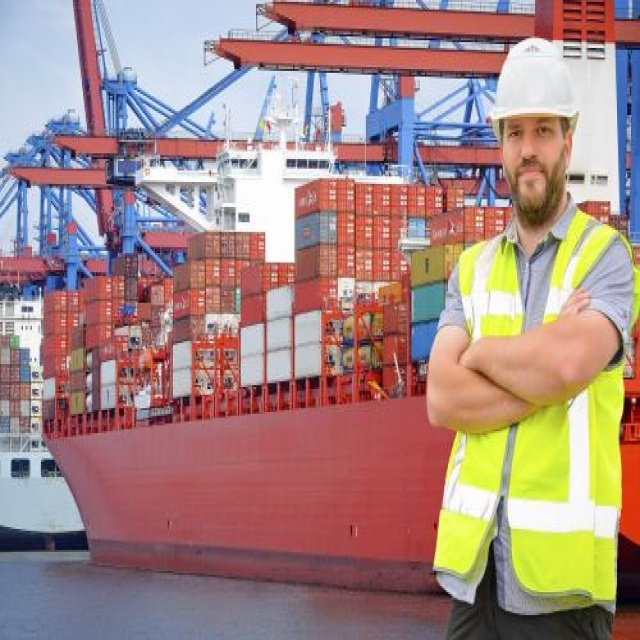Helmet: (486, 32, 592, 236)
Reflective vest: (428, 210, 640, 606)
